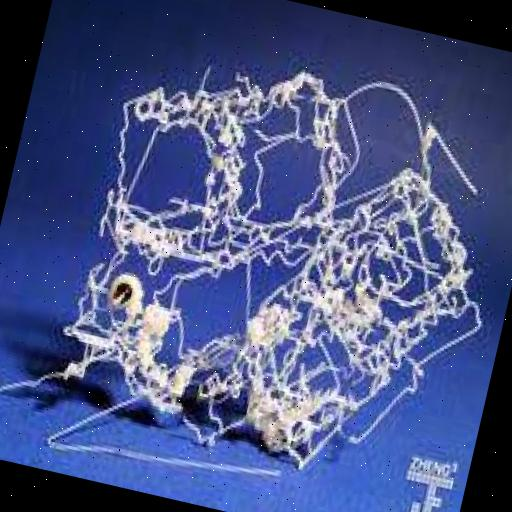spaghetti: (20, 2, 490, 478)
